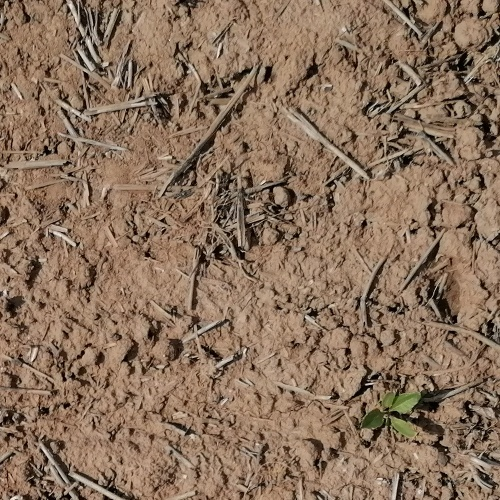beet: (357, 392, 424, 440)
